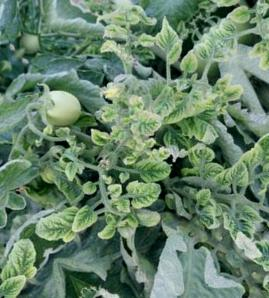Tomato leaf yellow virus: (166, 68, 236, 137), (25, 197, 89, 261), (119, 165, 177, 222), (142, 12, 198, 68), (118, 98, 171, 151), (128, 146, 179, 197), (181, 136, 231, 186), (211, 204, 261, 254), (65, 196, 109, 239), (189, 30, 232, 73), (220, 157, 256, 193), (244, 122, 269, 173)
